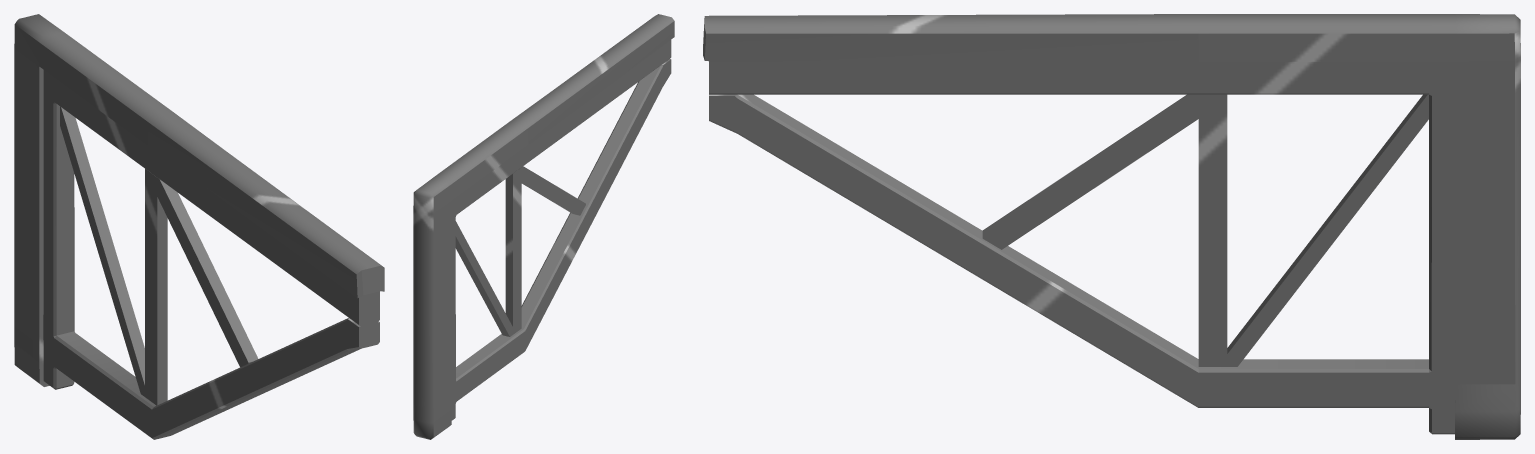
The model's file is FSR-S5-Butt.obj.
The picture shows the model from 3 angles, left to right: view 1: azimuth 30°, elevation 25°; view 2: azimuth 150°, elevation 25°; view 3: azimuth 270°, elevation 25°; orthographic projection. The views are drawn at different scales.
Visible parts, largest first — view 1: FSR-S5-Butt; view 2: FSR-S5-Butt; view 3: FSR-S5-Butt.
Part boxes in pixels (x1,y1,x2,y2): FSR-S5-Butt: [14, 14, 384, 439]; FSR-S5-Butt: [413, 14, 674, 439]; FSR-S5-Butt: [703, 14, 1520, 439].
Size of the model in its own units: 0.7 by 7.93 by 14.19.
